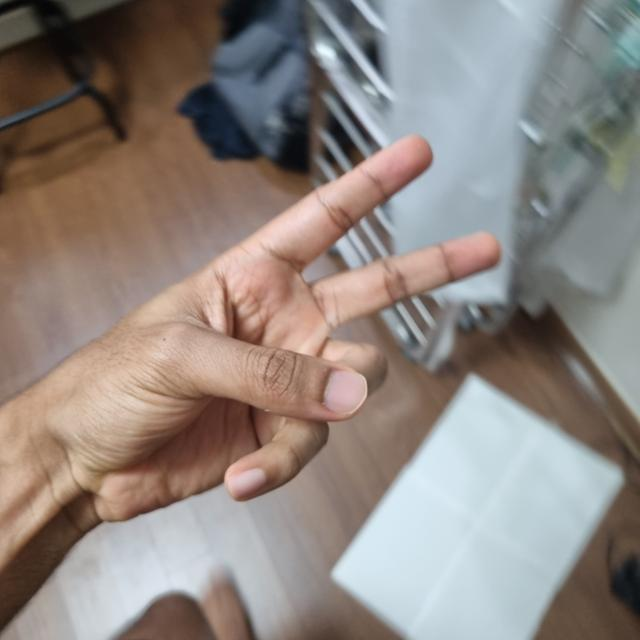Scissors: (43, 132, 504, 515)
